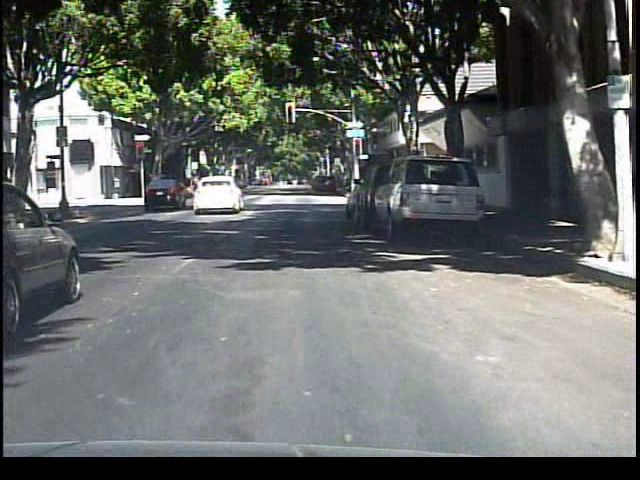person: (185, 169, 210, 210)
